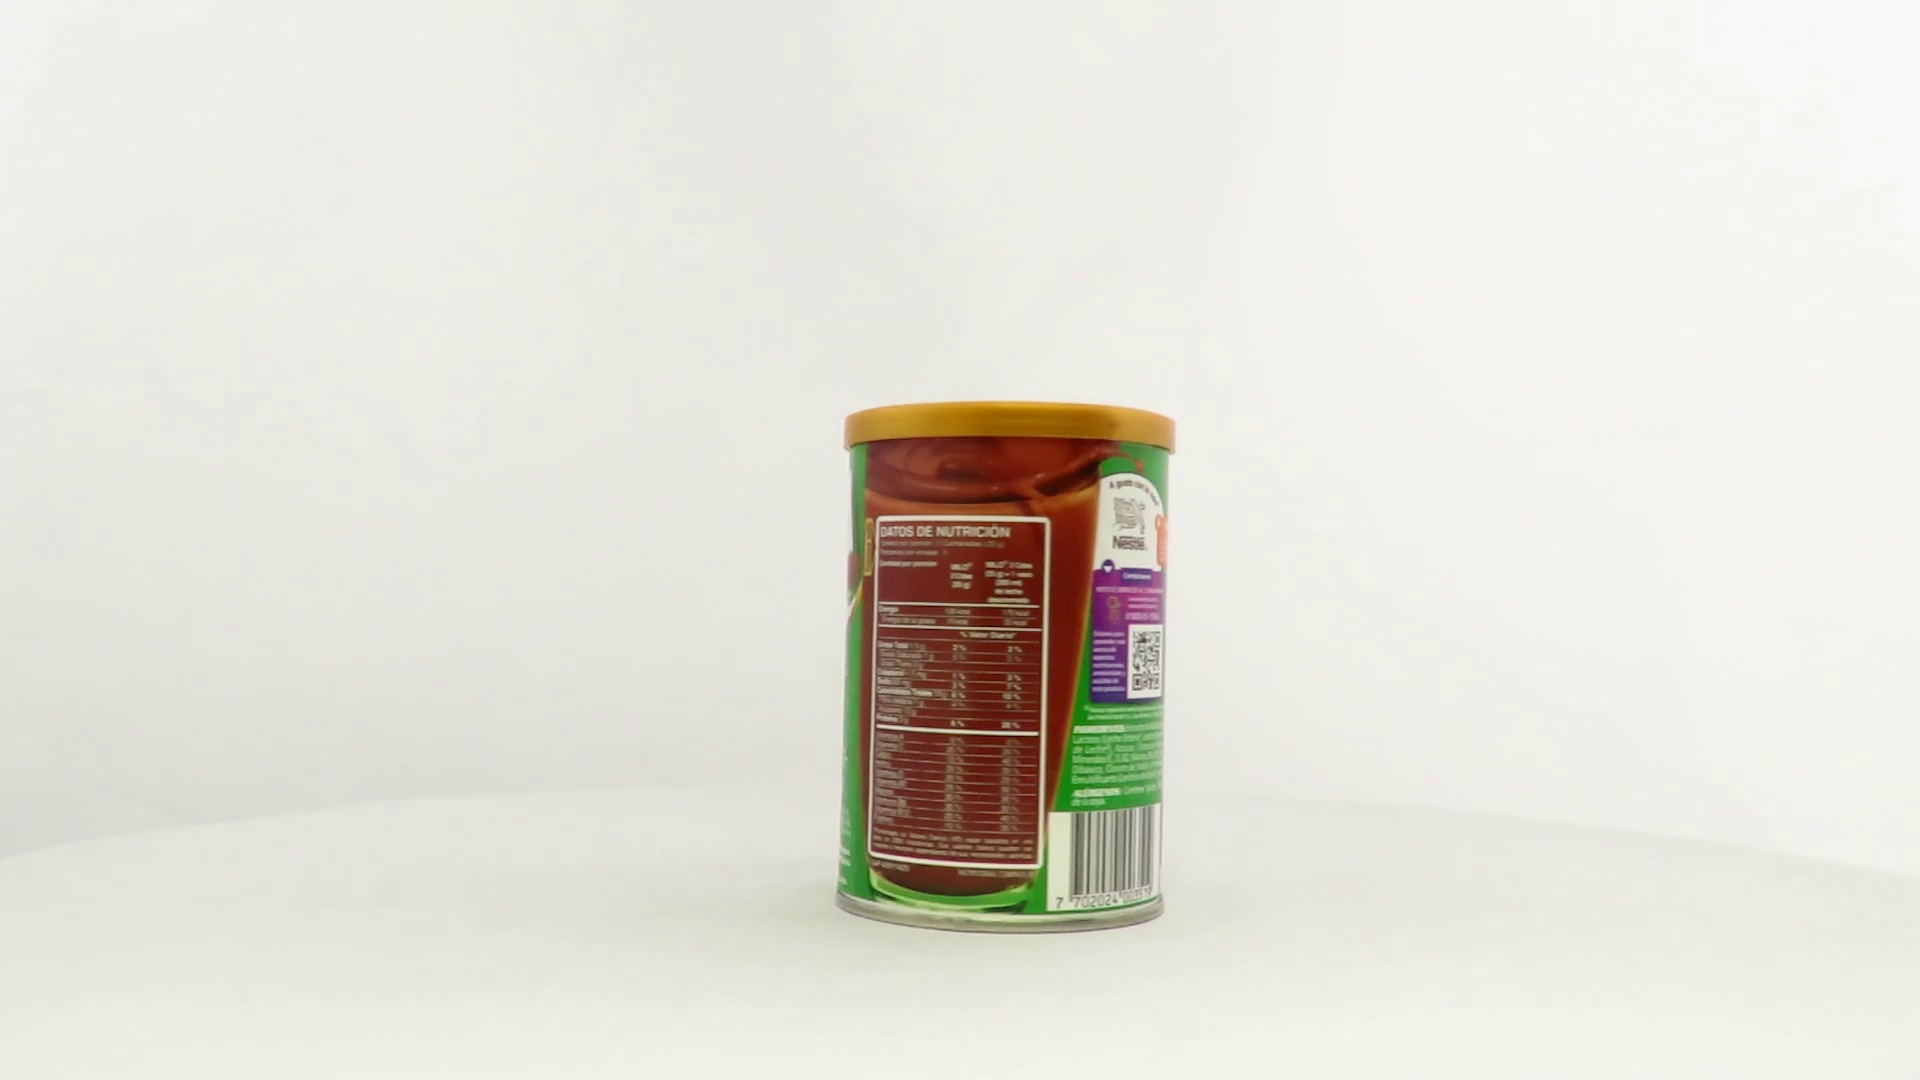COL0170203LAT20000: (829, 396, 1182, 942)
